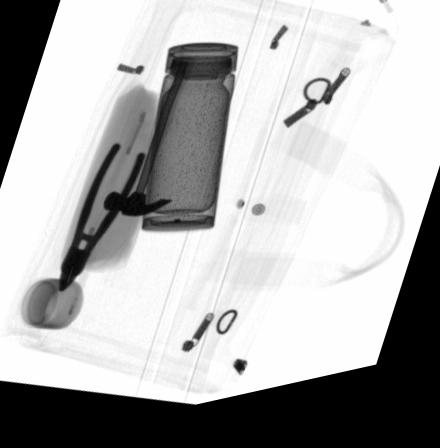Hammer: (102, 70, 193, 223)
Pliers: (58, 148, 145, 297)
